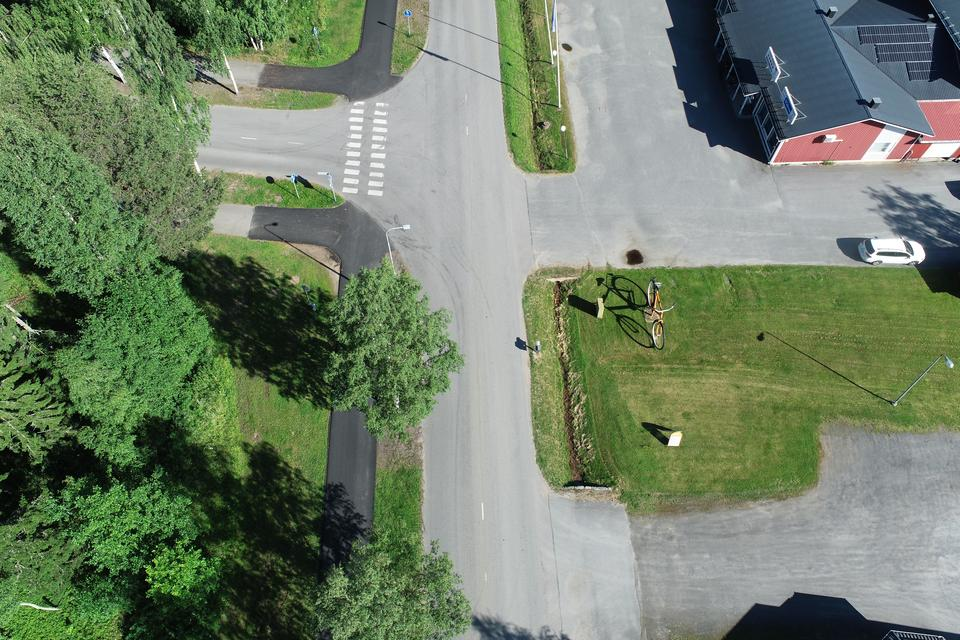intersection: (386, 418, 769, 640), (448, 121, 698, 369), (234, 23, 438, 259)
